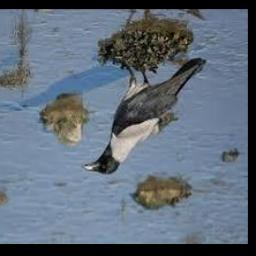Crow: (81, 57, 206, 175)
